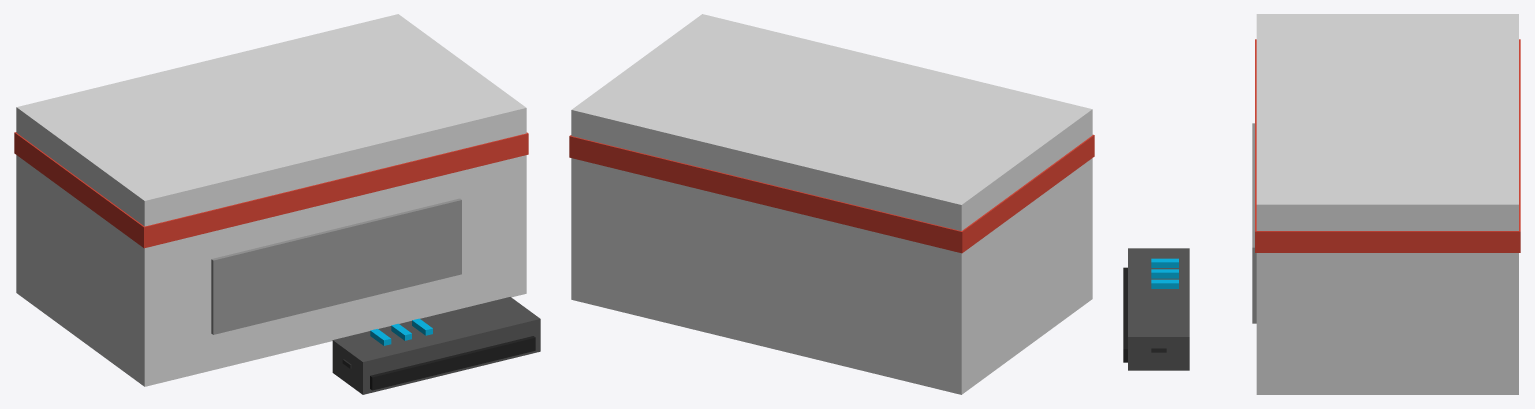
Rendered from ce_ammo2_plasmar_std_c.obj.
The picture shows the model from 3 angles, left to right: view 1: azimuth 30°, elevation 25°; view 2: azimuth 150°, elevation 25°; view 3: azimuth 270°, elevation 25°; orthographic projection. The views are drawn at different scales.
Visible parts, largest first — view 1: ce_ammo2_plasmar_std_c_0, ce_ammo2_plasmar_std_c_2, ce_ammo2_plasmar_std_c_1, ce_ammo2_plasmar_std_c_3, ce_ammo2_plasmar_std_c_4; view 2: ce_ammo2_plasmar_std_c_0, ce_ammo2_plasmar_std_c_1; view 3: ce_ammo2_plasmar_std_c_0, ce_ammo2_plasmar_std_c_3, ce_ammo2_plasmar_std_c_1, ce_ammo2_plasmar_std_c_2, ce_ammo2_plasmar_std_c_4.
Part boxes in pixels (x1=…): ce_ammo2_plasmar_std_c_0: x1=16, y1=14, x2=526, y2=386; ce_ammo2_plasmar_std_c_2: x1=211, y1=198, x2=461, y2=334; ce_ammo2_plasmar_std_c_1: x1=14, y1=132, x2=528, y2=248; ce_ammo2_plasmar_std_c_3: x1=332, y1=297, x2=540, y2=394; ce_ammo2_plasmar_std_c_4: x1=370, y1=336, x2=535, y2=390; ce_ammo2_plasmar_std_c_0: x1=571, y1=14, x2=1092, y2=394; ce_ammo2_plasmar_std_c_1: x1=569, y1=134, x2=1094, y2=253; ce_ammo2_plasmar_std_c_0: x1=1256, y1=14, x2=1518, y2=394; ce_ammo2_plasmar_std_c_3: x1=1128, y1=248, x2=1189, y2=370; ce_ammo2_plasmar_std_c_1: x1=1255, y1=39, x2=1520, y2=252; ce_ammo2_plasmar_std_c_2: x1=1252, y1=123, x2=1256, y2=323; ce_ammo2_plasmar_std_c_4: x1=1123, y1=267, x2=1127, y2=362.
Size of the model in its own units: 0.866 by 0.4 by 0.757.
